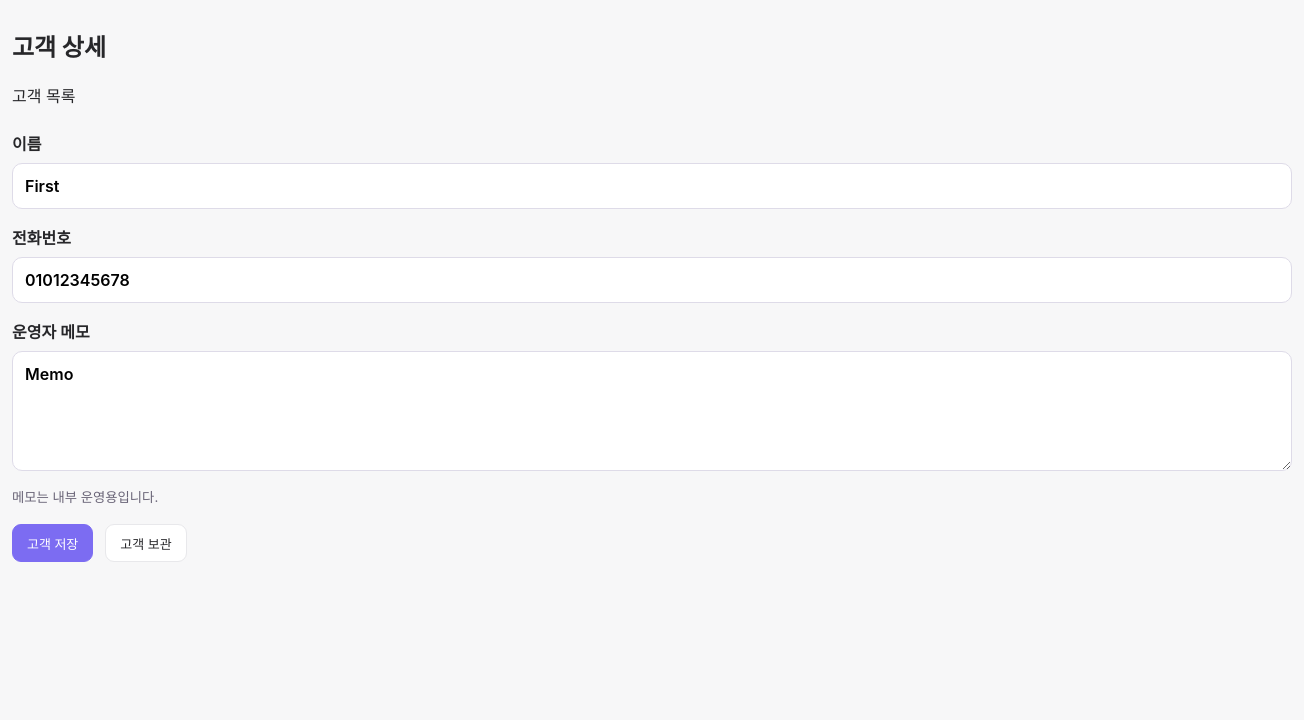
edits and archives while preserving the detail
The width and height of the screenshot is (1304, 720).
Replace the text in the field labelled "이름" with "Edited" at (652, 186), box [12, 163, 1292, 209]
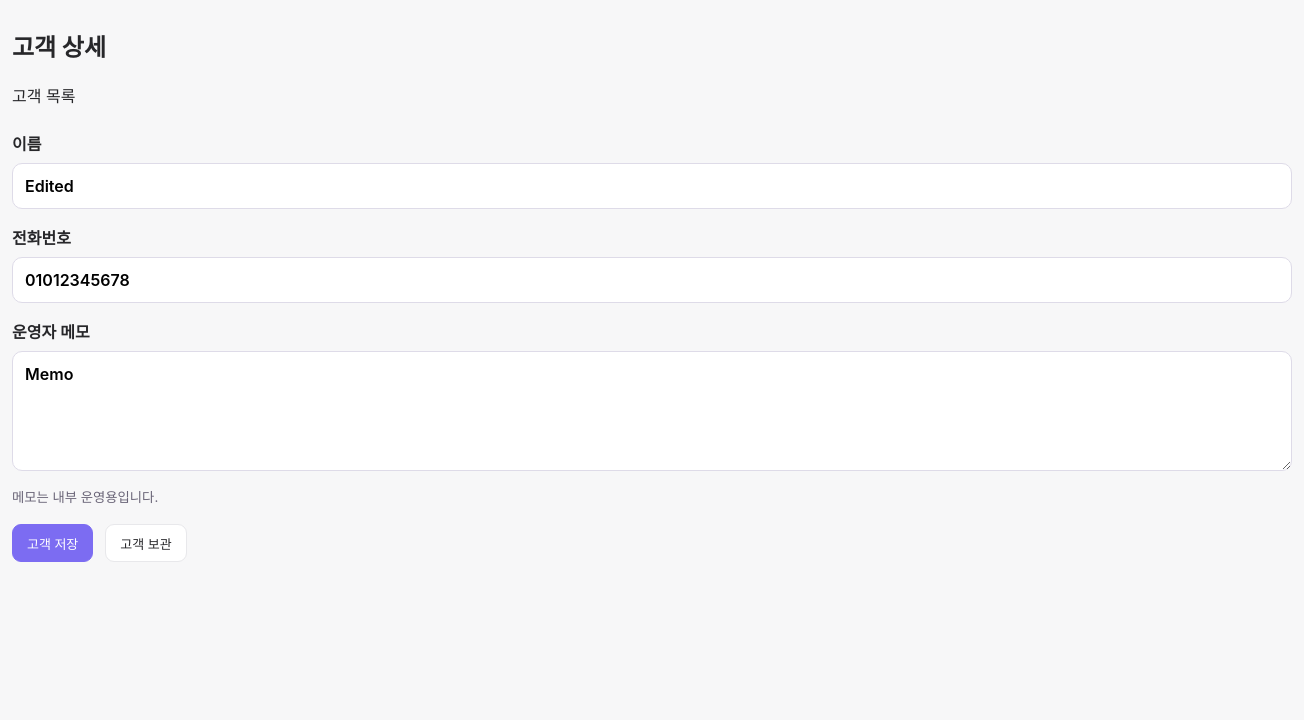
Click the button "고객 저장".
click(53, 543)  # box [12, 524, 93, 562]
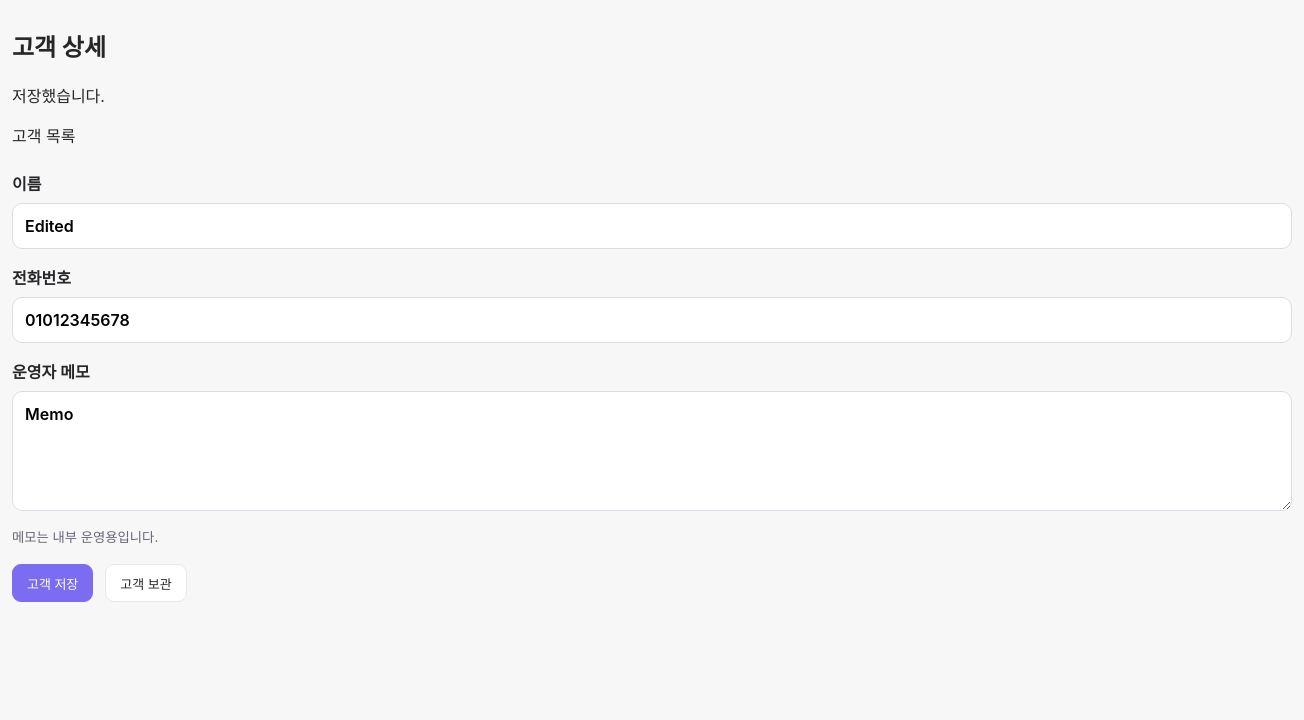
Expected: the text "저장했습니다." is shown, [12, 86, 105, 106]
Click the button "고객 보관".
click(146, 583)  # box [105, 564, 187, 602]
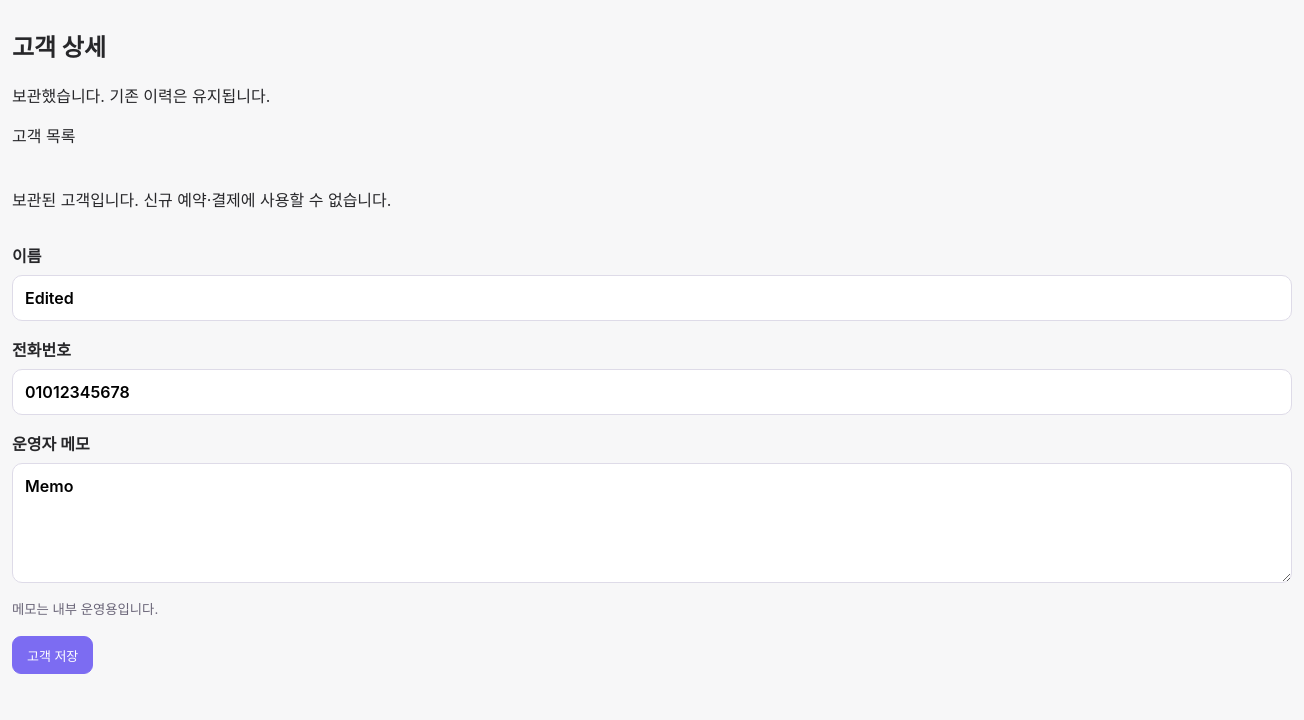
Expected: the text "보관했습니다. 기존 이력은 유지됩니다." is shown, [12, 86, 270, 106]
Expected: the button "고객 보관" is gone
